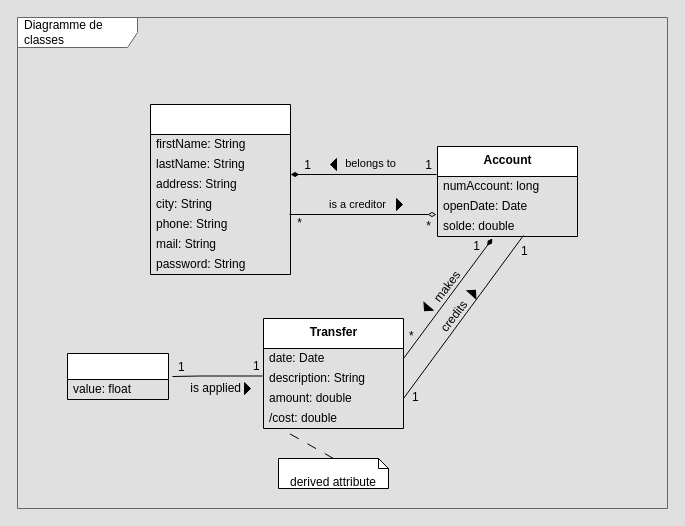
Image size: 685x526. Some labels were removed from this diagram. Here are the shapes that lost their labels. From the top down, the box of each, then its label:
(150, 104, 290, 274): User
(66, 352, 168, 400): Rate
